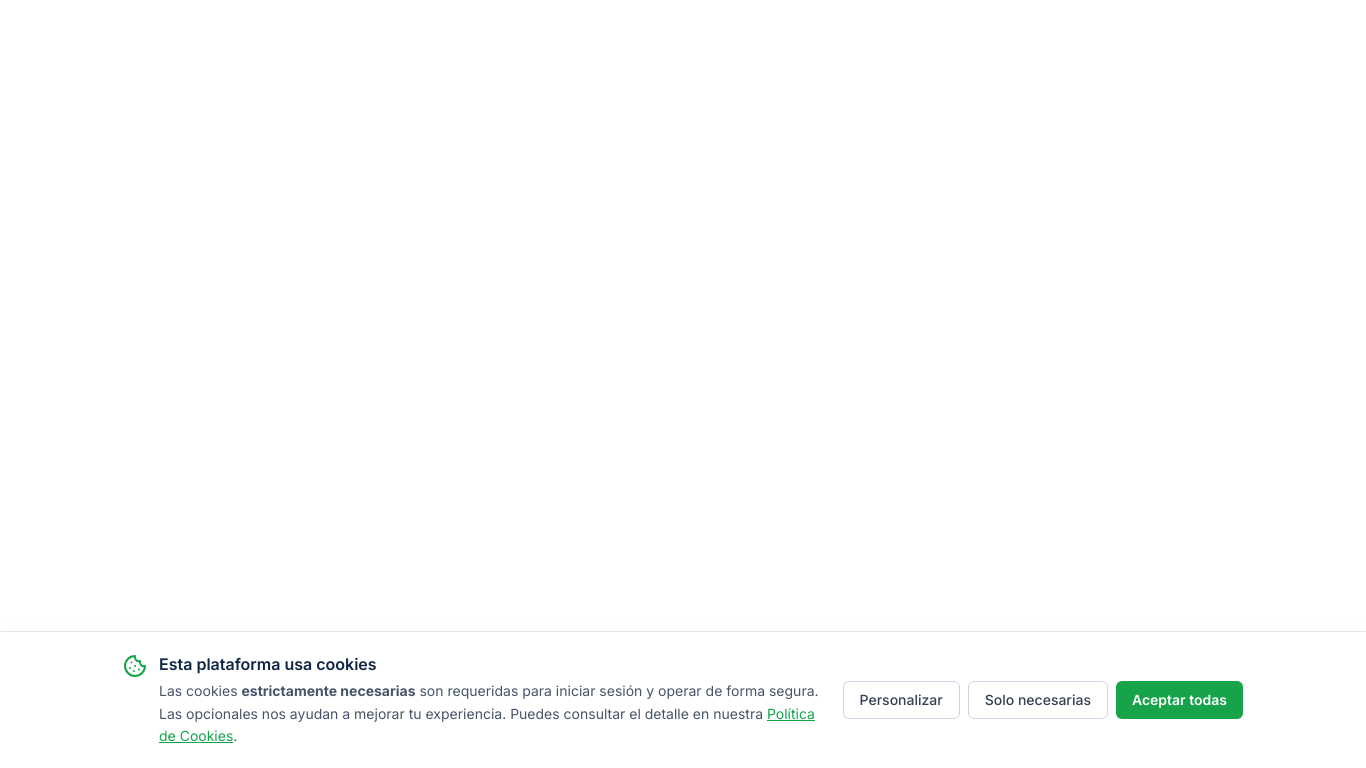
Test: CookieConsentBanner › "Personalizar" expande el panel con toggles granulares
Expected: the dialog is shown, [0,631,1365,767]
Step 1. Click the button "Personalizar" → (901,700), box [843,681,960,719]
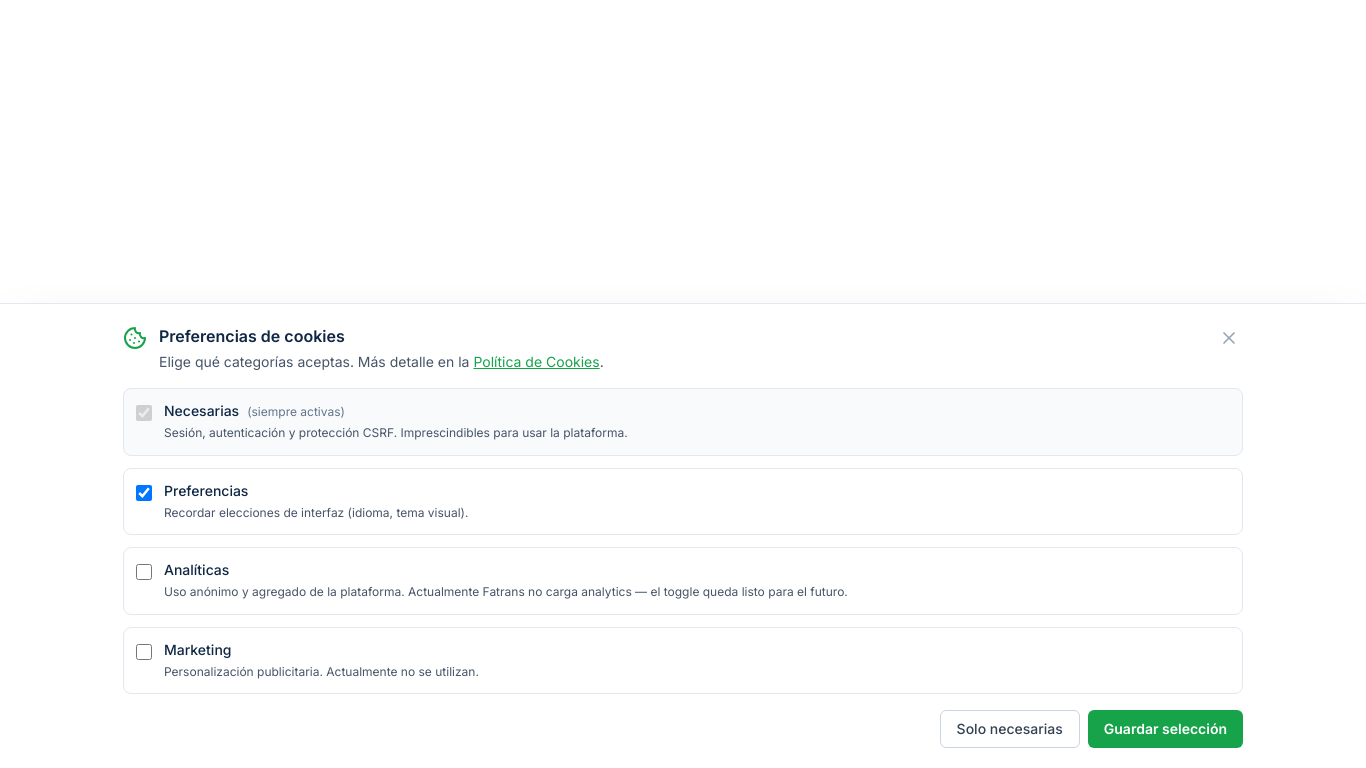
Now the heading "Preferencias de cookies" is shown, box [159,326,345,346]
Now the text "Necesarias(siempre activas)" is shown, box [164,402,345,419]
Now the text "Preferencias" is shown, box [164,482,248,498]
